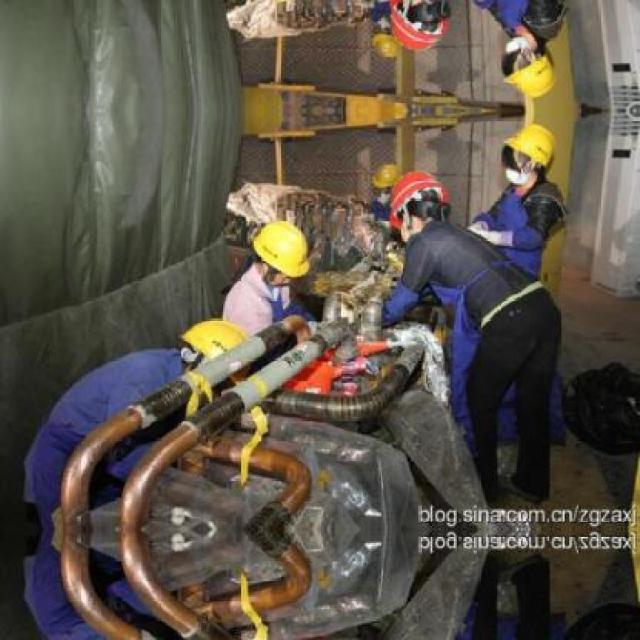helmet: (163, 314, 265, 380), (246, 214, 317, 284), (500, 124, 558, 184), (500, 34, 558, 94), (394, 166, 443, 225), (394, 0, 444, 54), (368, 159, 401, 201), (368, 18, 401, 59)
